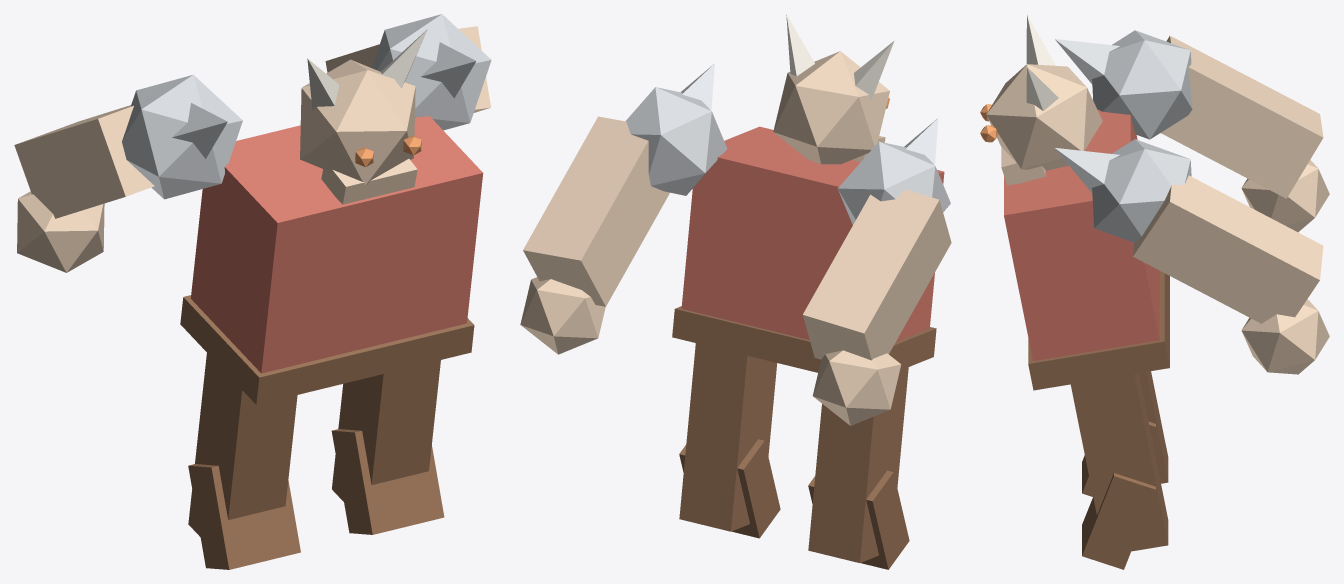
Rendered from npcpose_brute_attack_10.glb.
3 views of the same model, side by side, from view 1: azimuth 30°, elevation 25°; view 2: azimuth 150°, elevation 25°; view 3: azimuth 270°, elevation 25° (orthographic). The views are drawn at different scales.
Visible parts, largest first — view 1: npcpose; view 2: npcpose; view 3: npcpose.
Boxes of the visible parts, left/top/right/bottom form: npcpose: left=14, top=14, right=491, bottom=569; npcpose: left=520, top=14, right=951, bottom=569; npcpose: left=980, top=14, right=1329, bottom=569.
Size of the model in its own units: 1.43 by 1.81 by 1.19.
